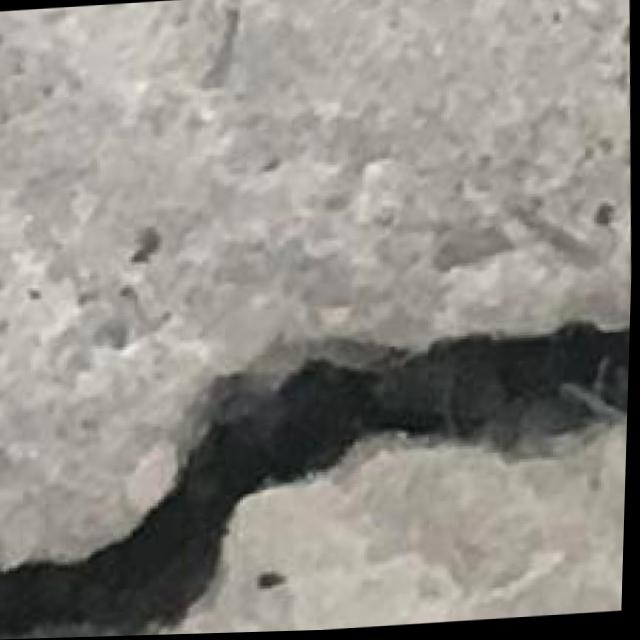Crack: (0, 300, 633, 640)
